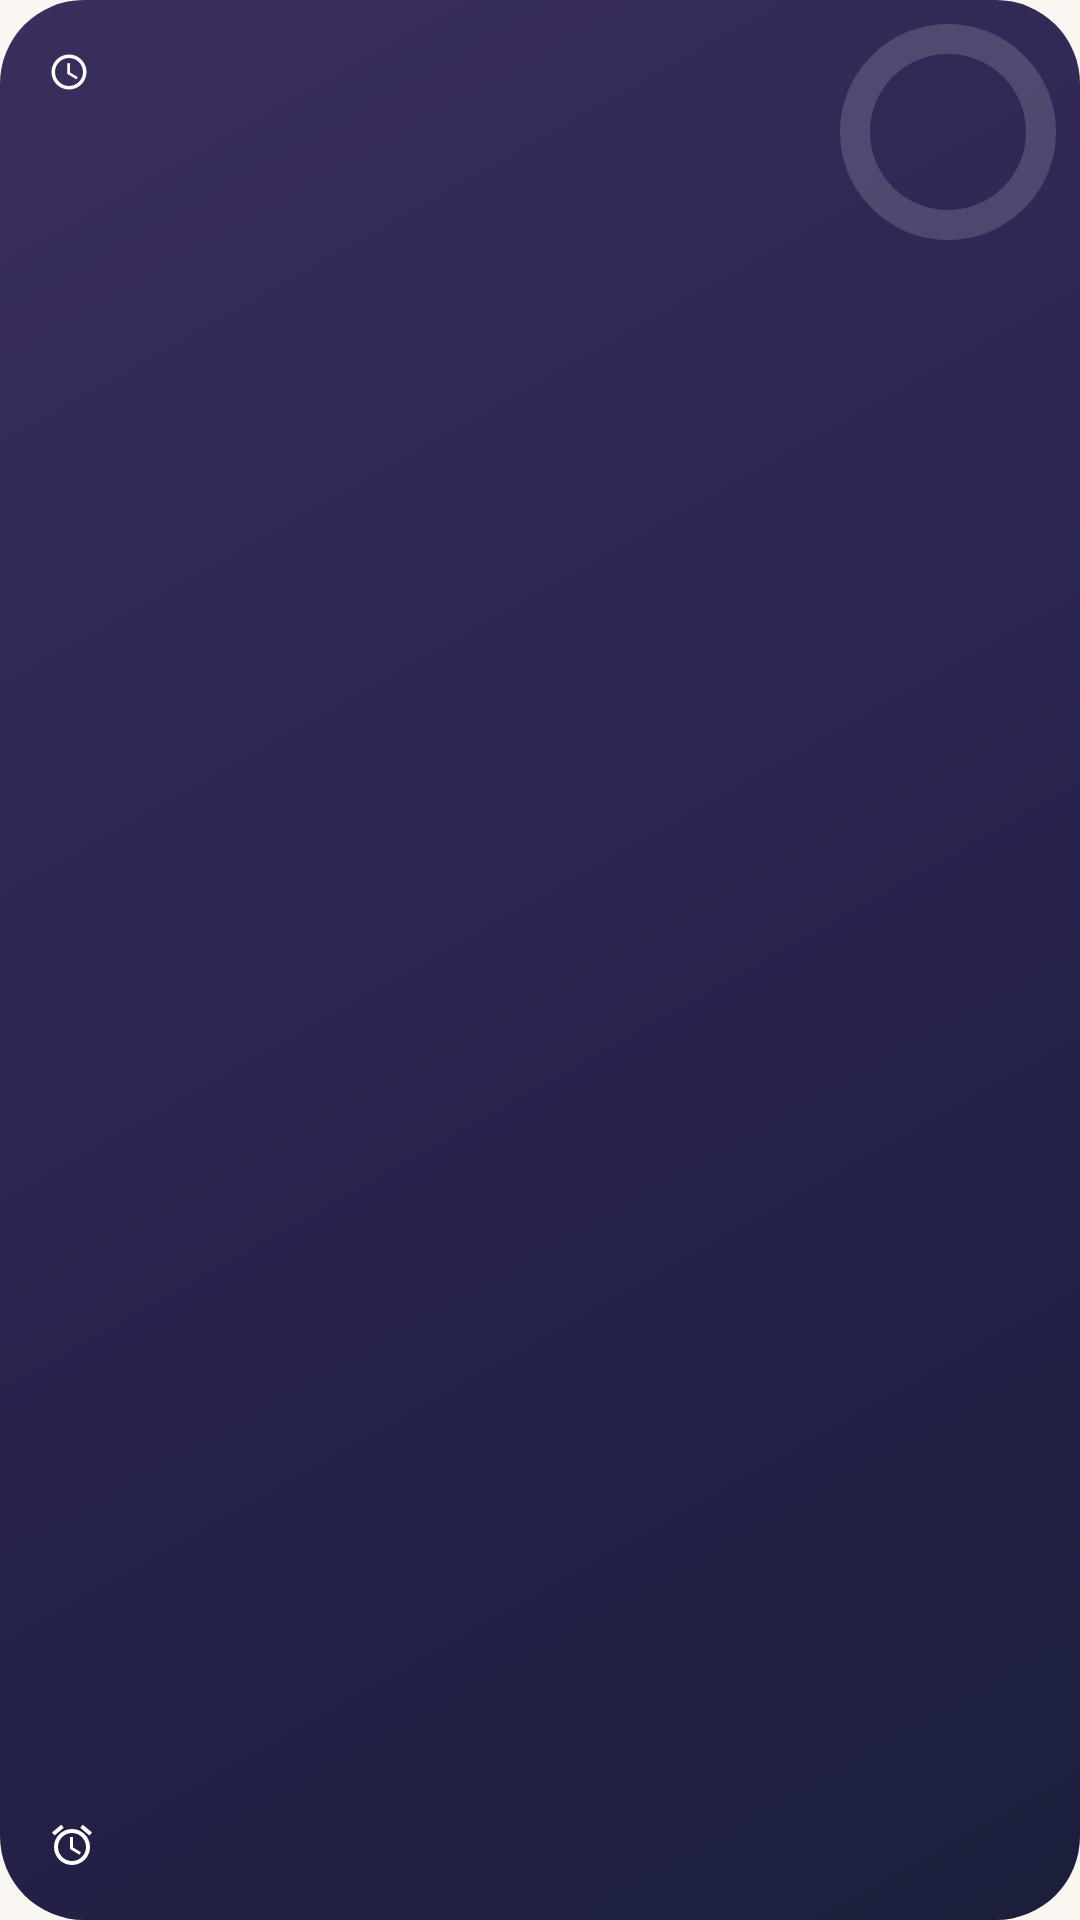

Icon click points for this 1080 × 1920 phone screenshot, format [x,y]:
alarm: [72,1845]
clock face: [69,72]
